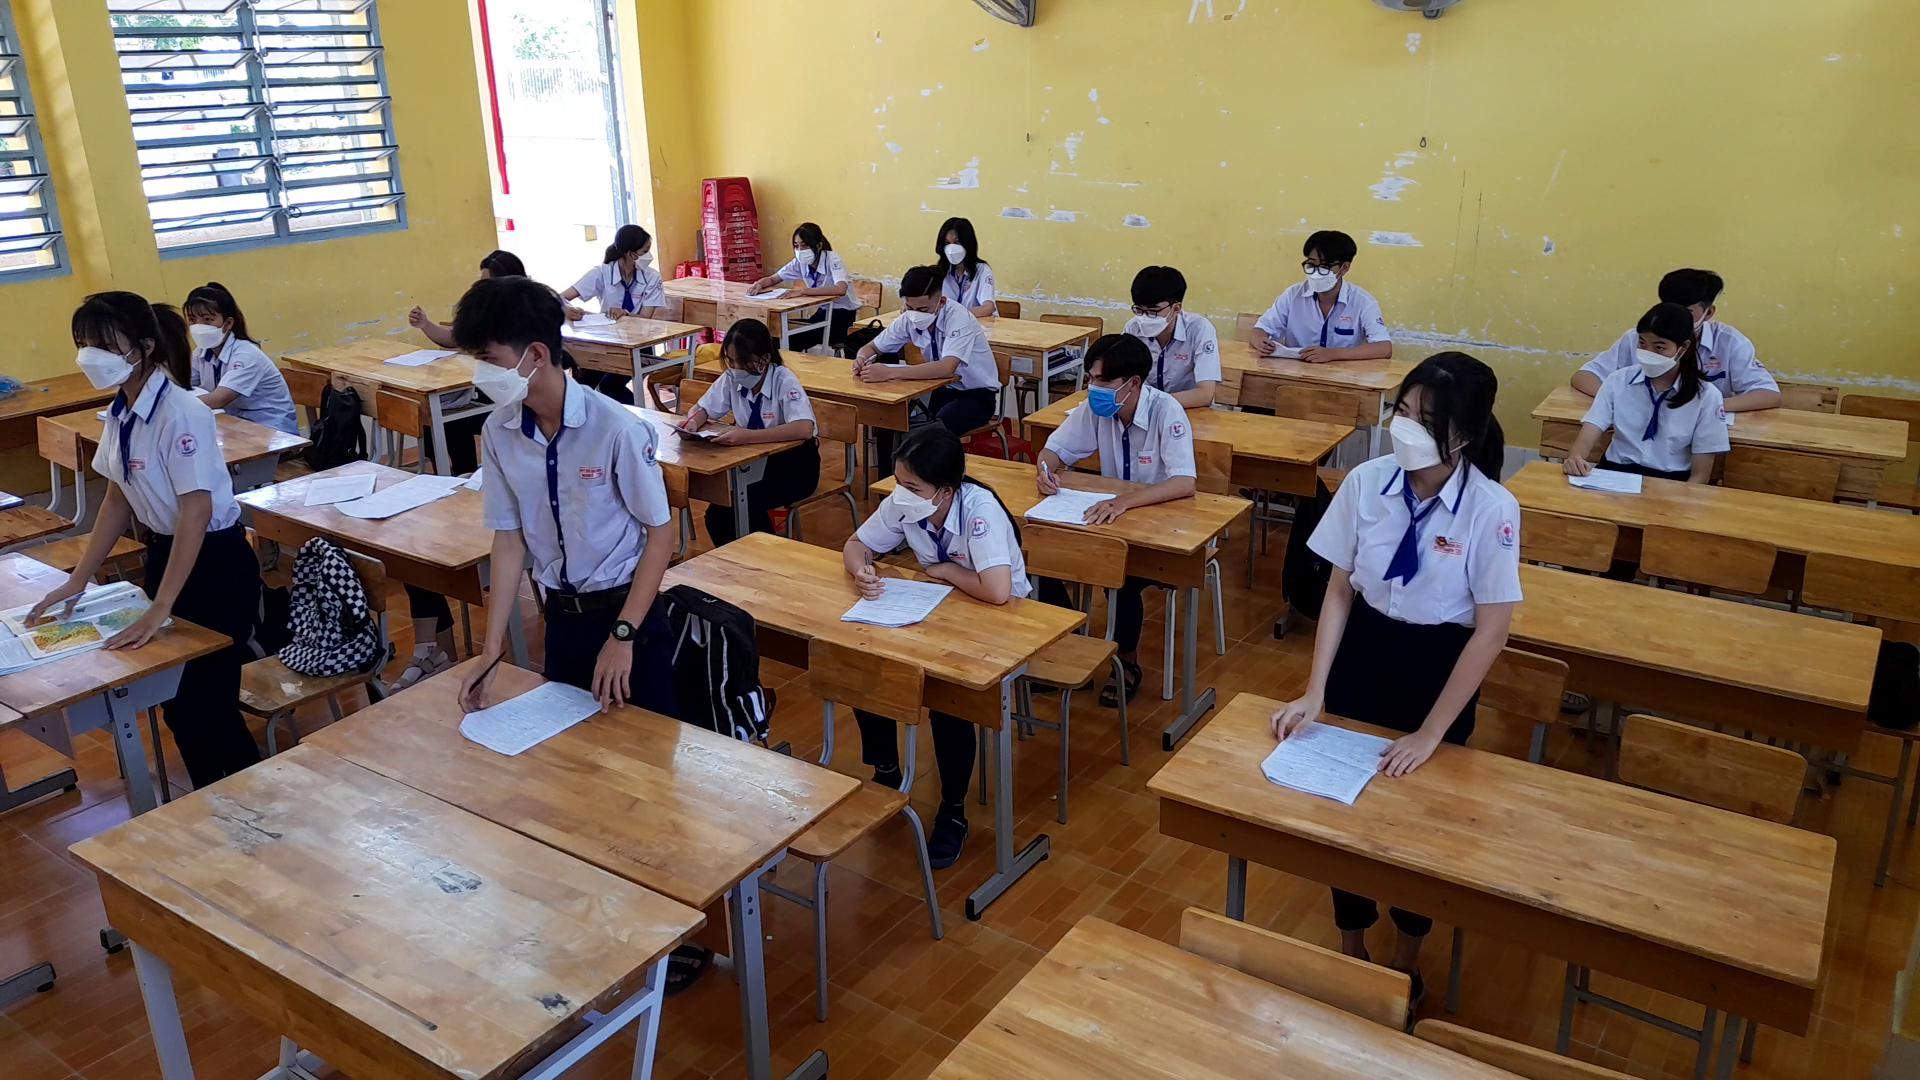Hand Under Table: (1685, 385, 1721, 495)
Look Around: (593, 223, 661, 278)
Normal: (832, 421, 1033, 608), (1023, 327, 1207, 525), (825, 261, 1001, 396), (1241, 216, 1396, 365), (673, 314, 825, 462), (175, 278, 305, 438), (717, 210, 858, 309)
Stand Up: (1273, 326, 1530, 782), (423, 270, 680, 725), (9, 287, 252, 632)
